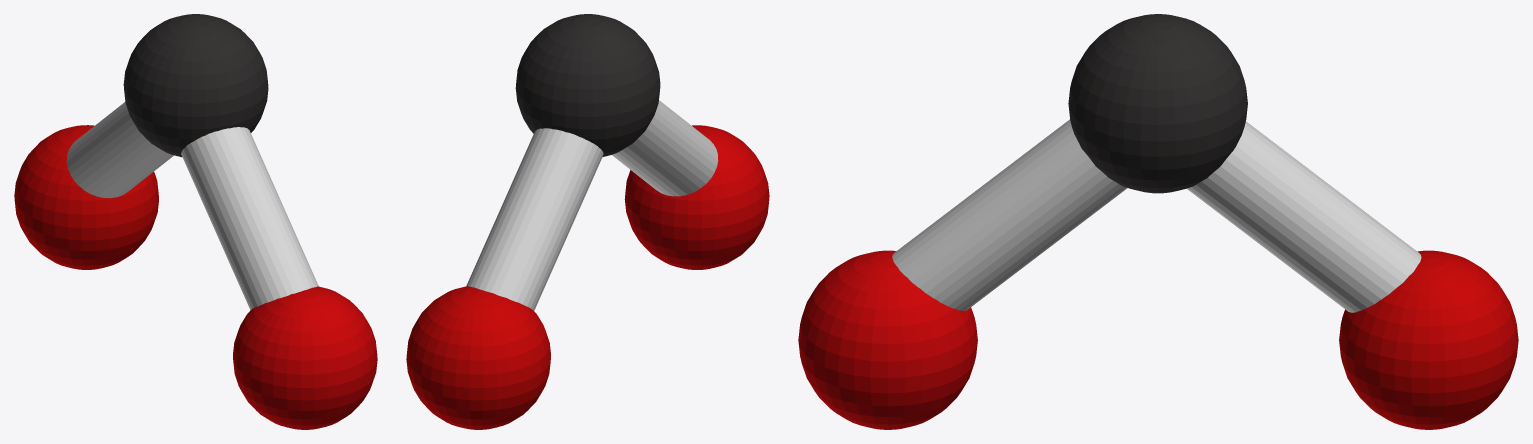
The model's file is DioxidoDeCarbono.dae.
3 views of the same model, side by side, from view 1: azimuth 30°, elevation 25°; view 2: azimuth 150°, elevation 25°; view 3: azimuth 270°, elevation 25° (orthographic). The views are drawn at different scales.
Visible parts, largest first — view 1: Sphere_006, Sphere_008, Cylinder_004, Sphere_007, Cylinder_005; view 2: Sphere_007, Sphere_008, Cylinder_005, Sphere_006, Cylinder_004; view 3: Sphere_008, Sphere_007, Sphere_006, Cylinder_004, Cylinder_005.
Boxes of the visible parts, box(x1,y1,x2,y2) form: Sphere_006: box(233, 286, 377, 429); Sphere_008: box(123, 14, 268, 157); Cylinder_004: box(181, 127, 318, 310); Sphere_007: box(14, 125, 158, 269); Cylinder_005: box(66, 102, 173, 198); Sphere_007: box(406, 286, 550, 429); Sphere_008: box(515, 14, 660, 156); Cylinder_005: box(466, 128, 603, 310); Sphere_006: box(624, 125, 769, 269); Cylinder_004: box(612, 100, 718, 196); Sphere_008: box(1068, 14, 1247, 193); Sphere_007: box(1339, 250, 1518, 429); Sphere_006: box(798, 250, 977, 429); Cylinder_004: box(892, 119, 1127, 310); Cylinder_005: box(1187, 121, 1421, 312).
Bounding box in the file's own units: 1.23 × 4.92 × 3.01.
